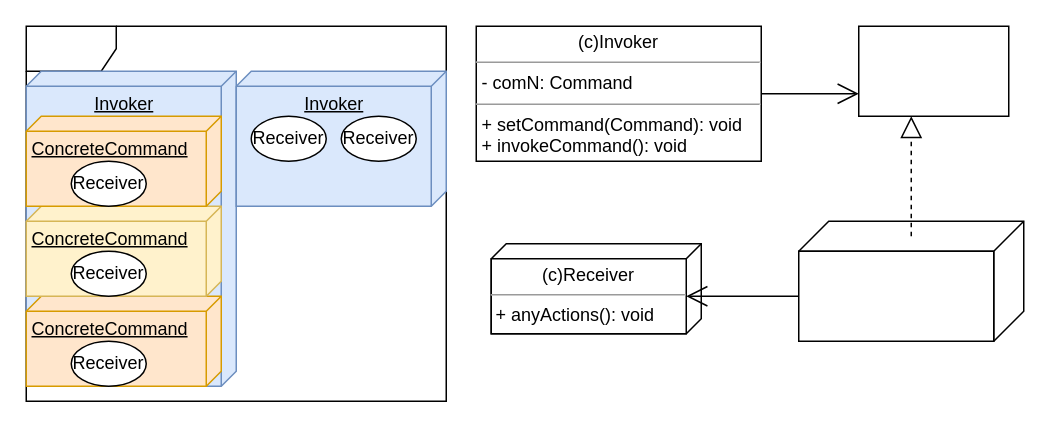
Image size: 1050x428. Some labels were removed from this diagram. The shapes that lost their labels are listed below. From the top down, each one's box as (x1, y1, x2, y2) in pixels, then its label:
(857, 25, 1009, 116): (i)Command + execute(): void + undo(): void
(25, 25, 446, 401): Client
(797, 250, 994, 341): (с)ConcreteCommand + execute(): void + undo(): void
